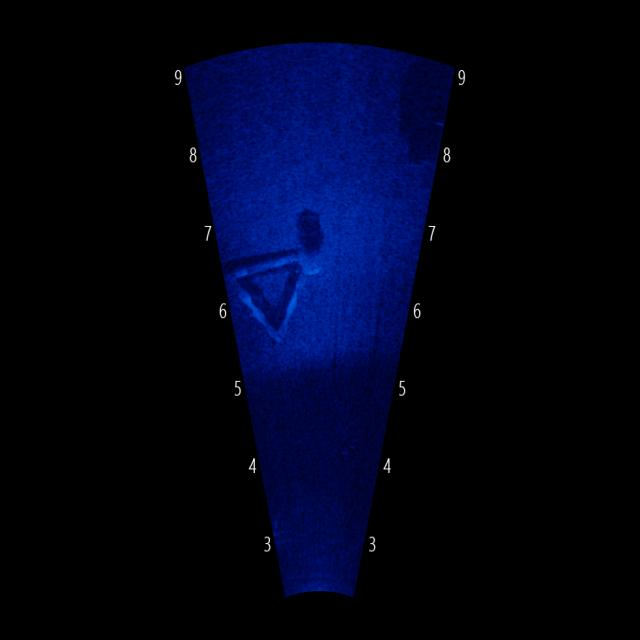triangle: (228, 240, 320, 344)
